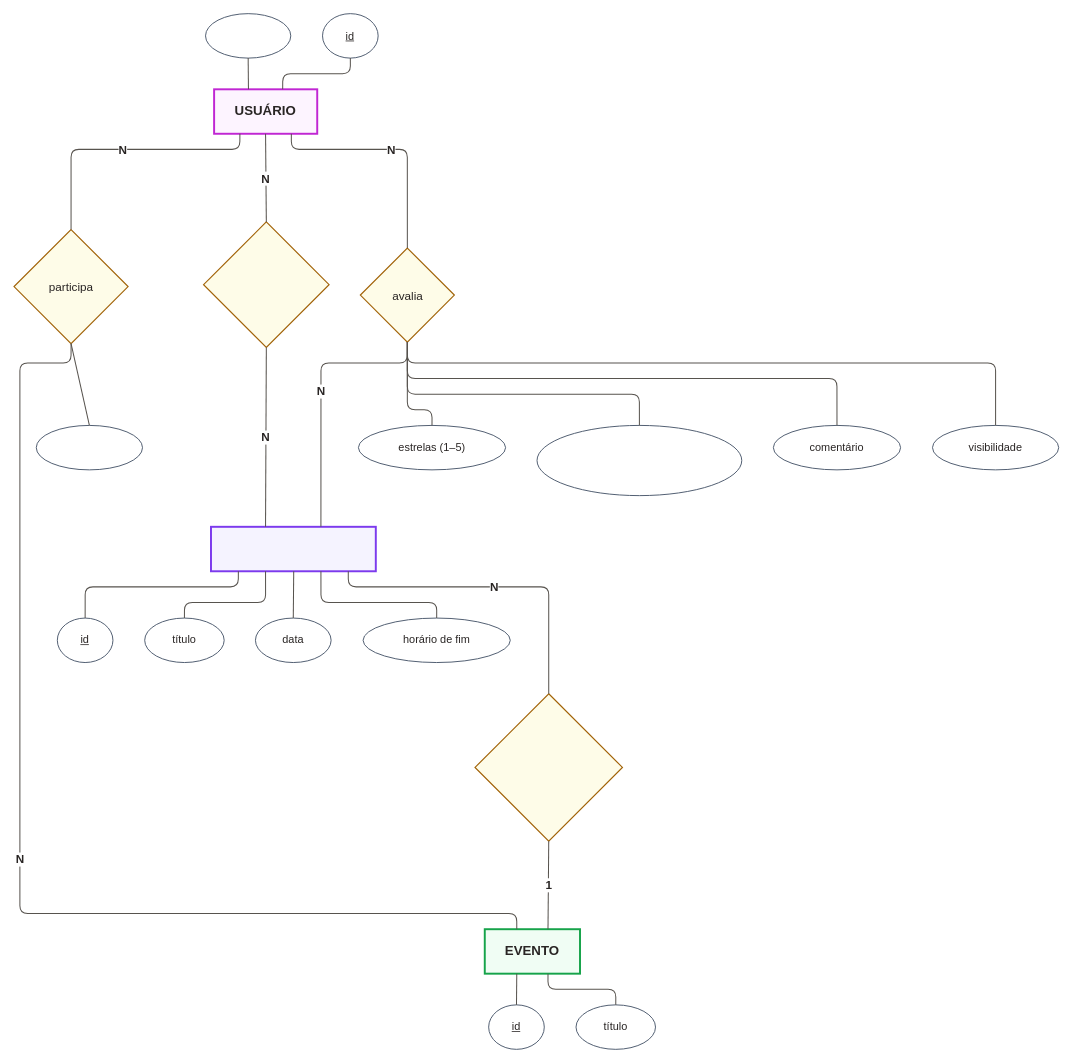
This 1073x1063 diagram has some shape labels left out. The centre of each missing label's shape, as x and y in pixels:
"acontece em" belongs at (548,767).
"apresenta" belongs at (266,284).
"APRESENTAÇÃO" belongs at (293,548).
"atributos (6, de 0 a 99)" belongs at (639,460).
"nome" belongs at (248,35).
"situação" belongs at (89,447).
